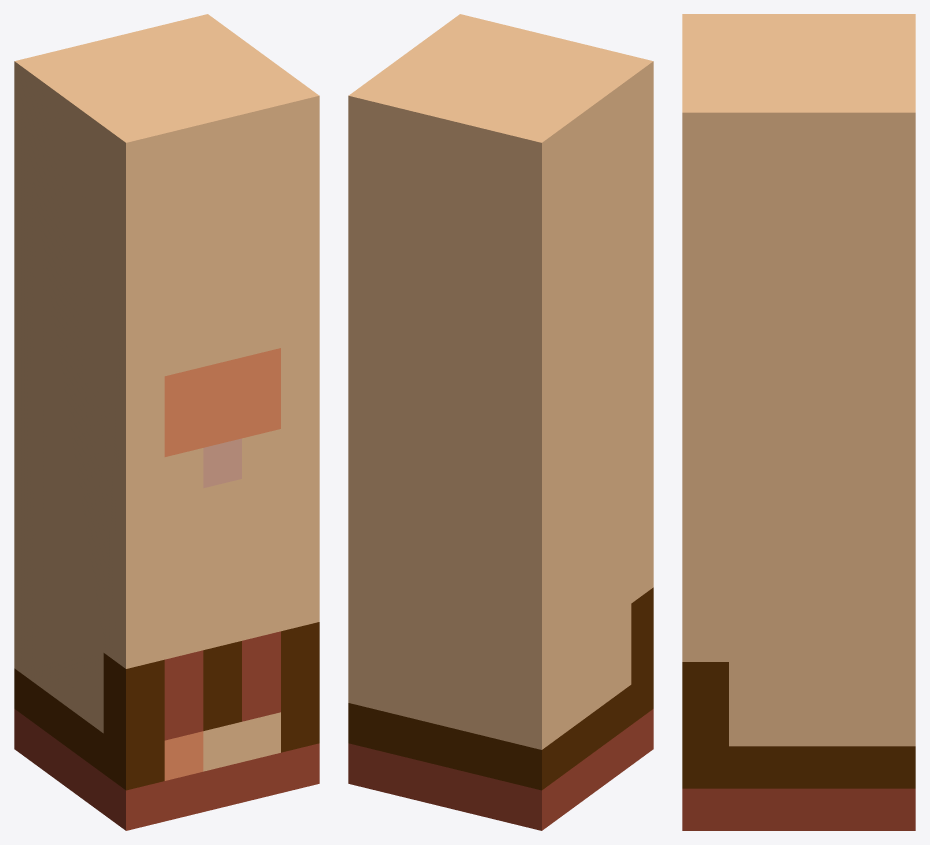
File: piernabarbaro.obj
3 views of the same model, side by side, from view 1: azimuth 30°, elevation 25°; view 2: azimuth 150°, elevation 25°; view 3: azimuth 270°, elevation 25° (orthographic). The views are drawn at different scales.
Parts seen in each view (by area): view 1: piernabarbaro; view 2: piernabarbaro; view 3: piernabarbaro.
Part boxes in pixels (x1,y1,x2,y2): piernabarbaro: (14,14,319,830); piernabarbaro: (348,14,653,830); piernabarbaro: (682,14,915,830).
Bounding box in the file's own units: 0.5 × 1.7 × 0.5.
